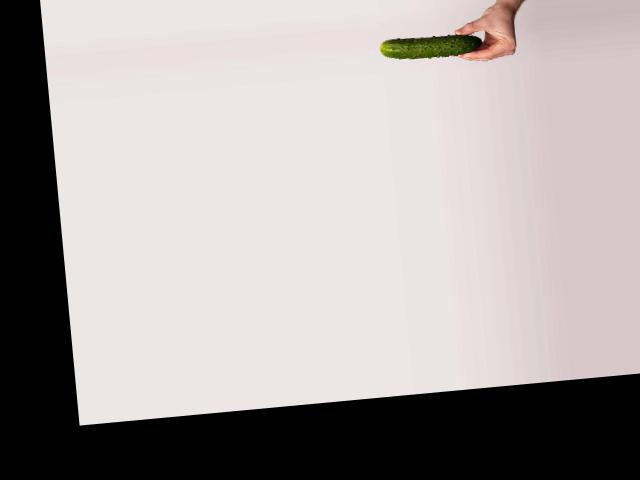cucumber: (380, 32, 483, 62)
